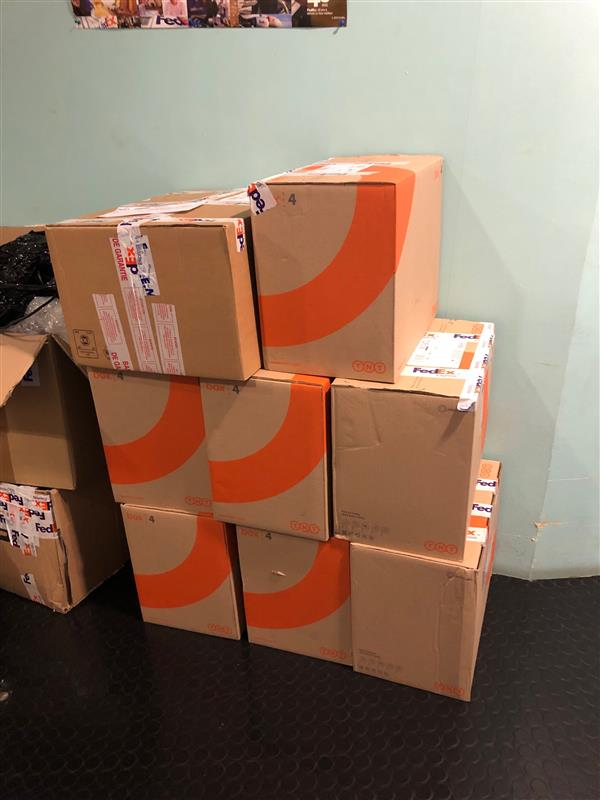label: (407, 338, 466, 372), (106, 198, 206, 217), (307, 160, 371, 177)
package: (42, 188, 263, 386), (256, 153, 444, 379), (331, 320, 493, 563), (352, 457, 501, 702), (0, 226, 107, 489), (196, 371, 332, 538), (89, 370, 218, 513), (0, 471, 127, 613), (237, 528, 354, 671), (119, 508, 239, 639)
